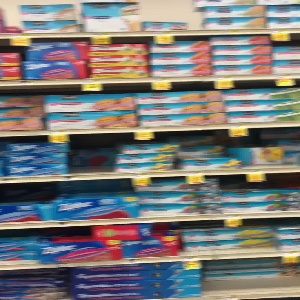void: (204, 258, 300, 297), (69, 134, 118, 173)
